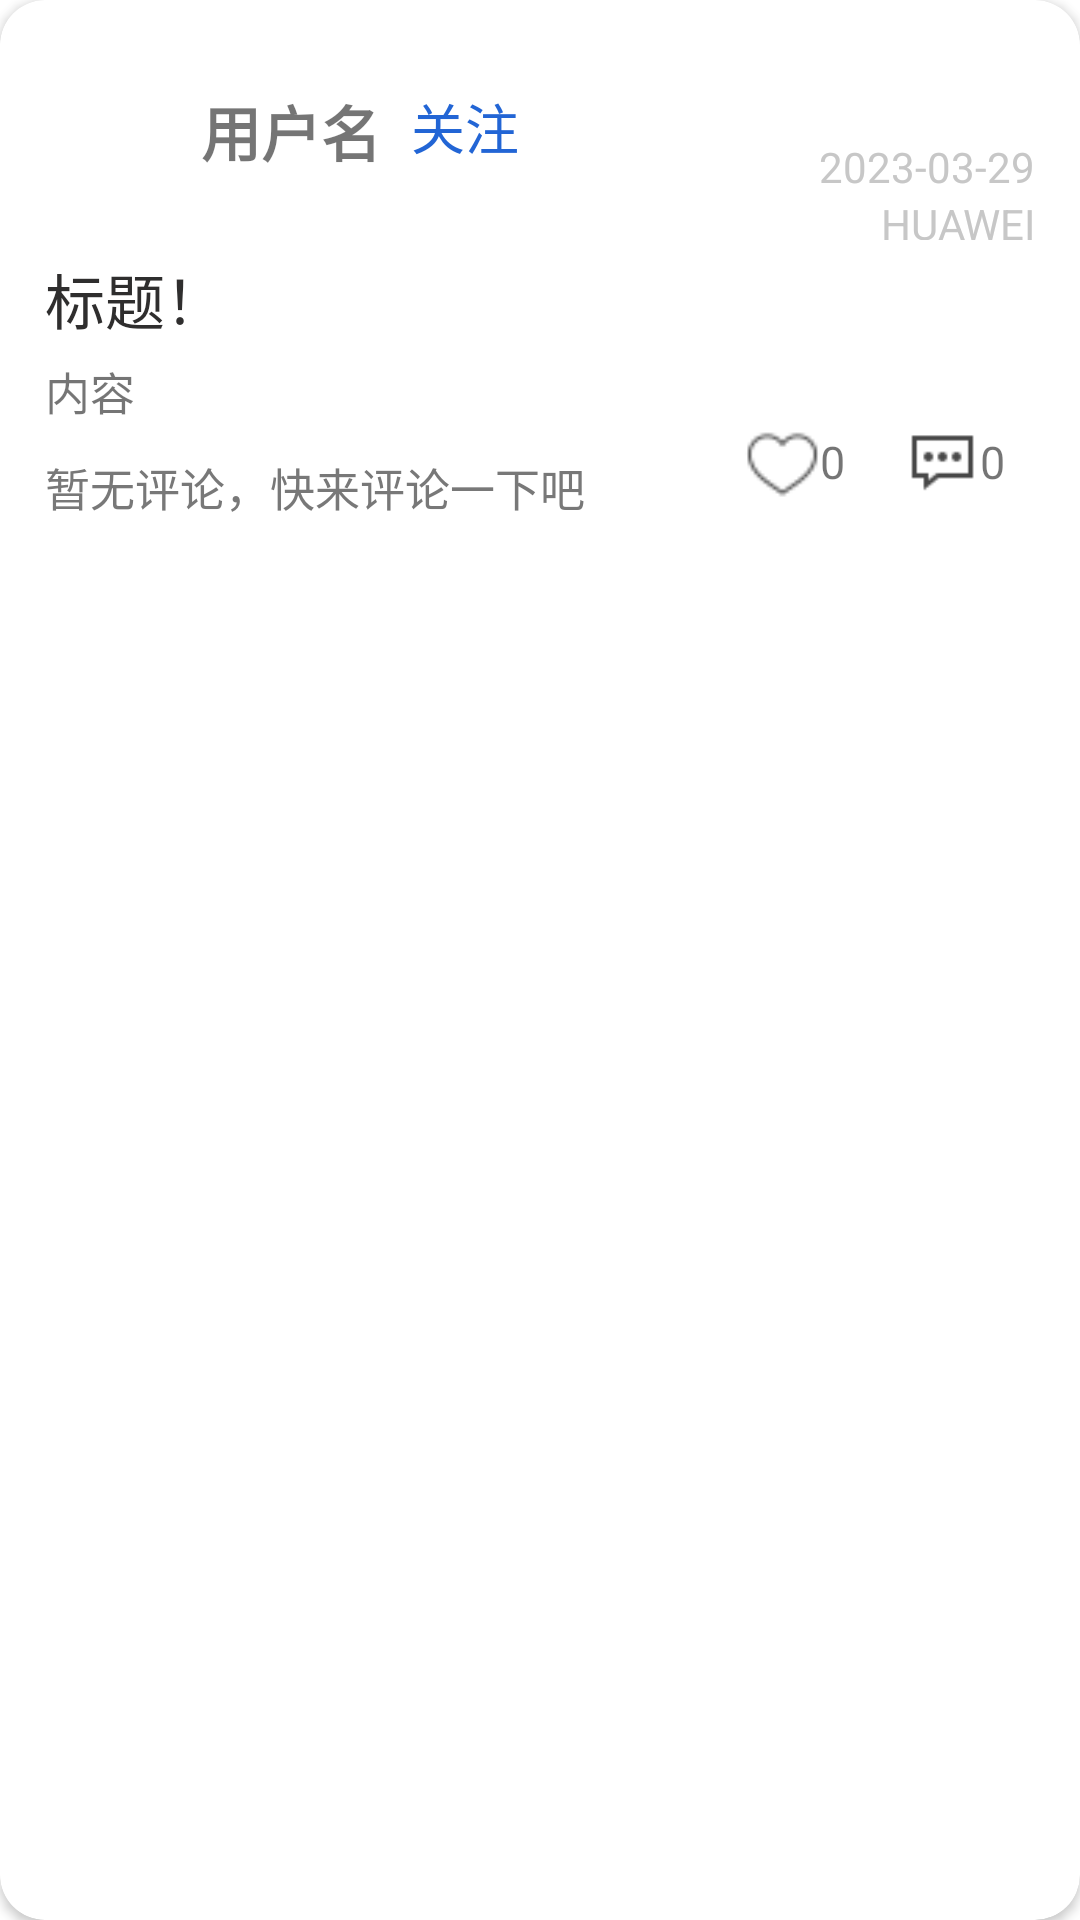

Named icons in this screenshot (1080×1920) and their centers, [x,y]:
chat: [942,462]
heart: [782,464]
